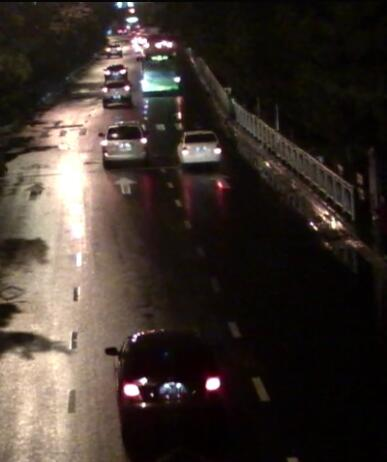bus: (137, 49, 179, 96)
car: (102, 328, 227, 432), (97, 121, 146, 166), (175, 128, 222, 165), (100, 79, 130, 102), (103, 65, 124, 81), (105, 43, 123, 57)
